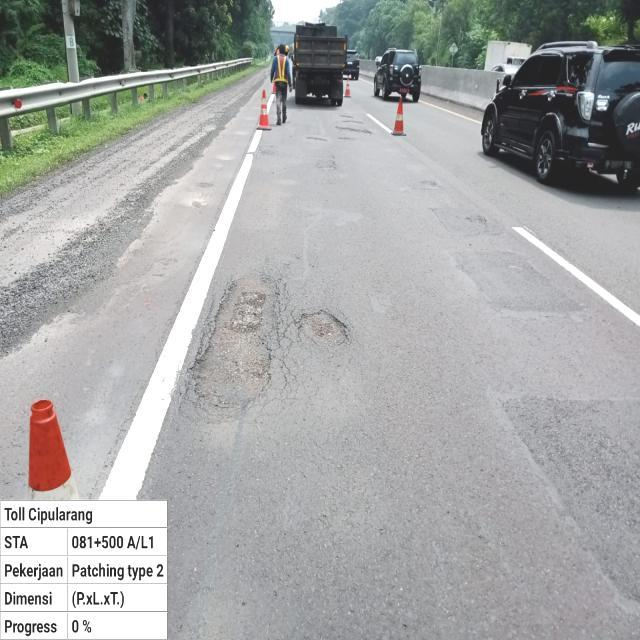Buraco: (182, 267, 285, 412), (292, 308, 353, 350), (332, 124, 376, 136), (303, 135, 330, 143), (340, 119, 366, 126), (335, 135, 353, 142), (336, 113, 356, 119)
